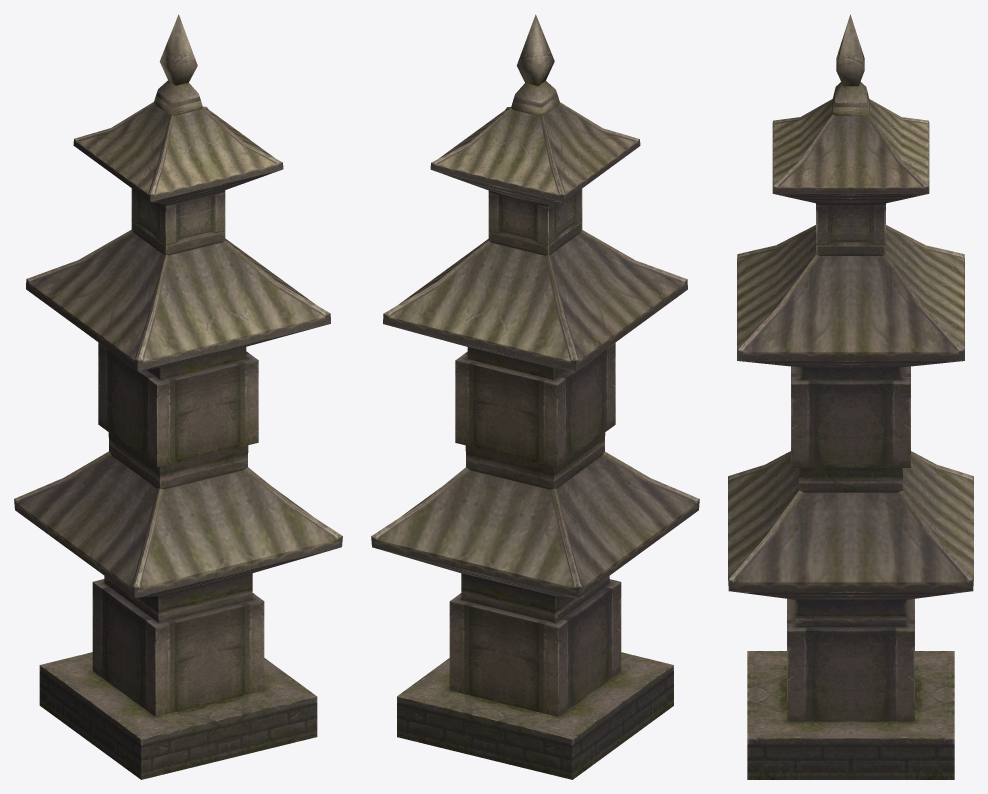
File: yw_shibalipo_fota01.FBX
3 views of the same model, side by side, from view 1: azimuth 30°, elevation 25°; view 2: azimuth 150°, elevation 25°; view 3: azimuth 270°, elevation 25° (orthographic). The views are drawn at different scales.
Parts seen in each view (by area): view 1: yw_shibalipo_fota01; view 2: yw_shibalipo_fota01; view 3: yw_shibalipo_fota01.
Part boxes in pixels (x1=…): yw_shibalipo_fota01: x1=14, y1=14, x2=342, y2=779; yw_shibalipo_fota01: x1=371, y1=14, x2=699, y2=779; yw_shibalipo_fota01: x1=728, y1=14, x2=973, y2=779.
Bounding box in the file's own units: 124 × 402 × 124.
